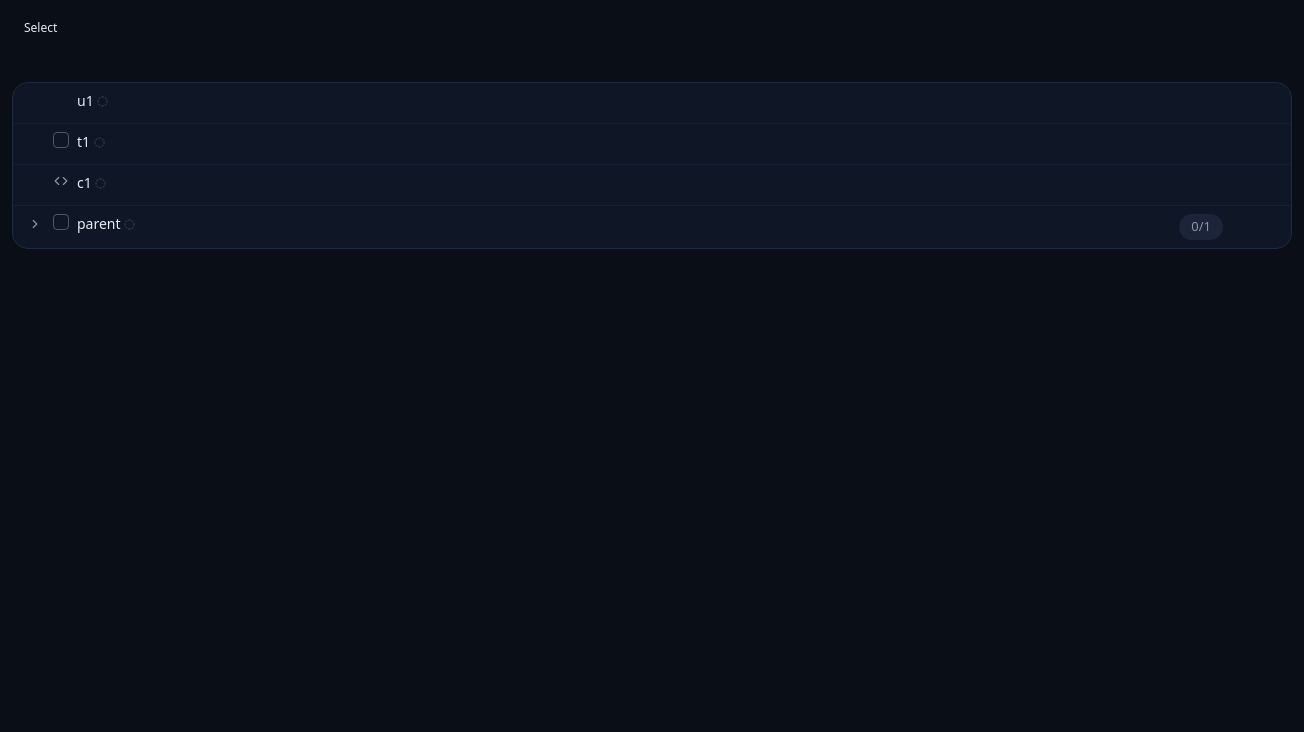
Test case: Inbox select mode › gates Classify by shape (childless roots) and Move by type (task/unclassified)
This screenshot has width=1304, height=732.
Click the button "Select" at (41, 28), box [12,12,69,44]
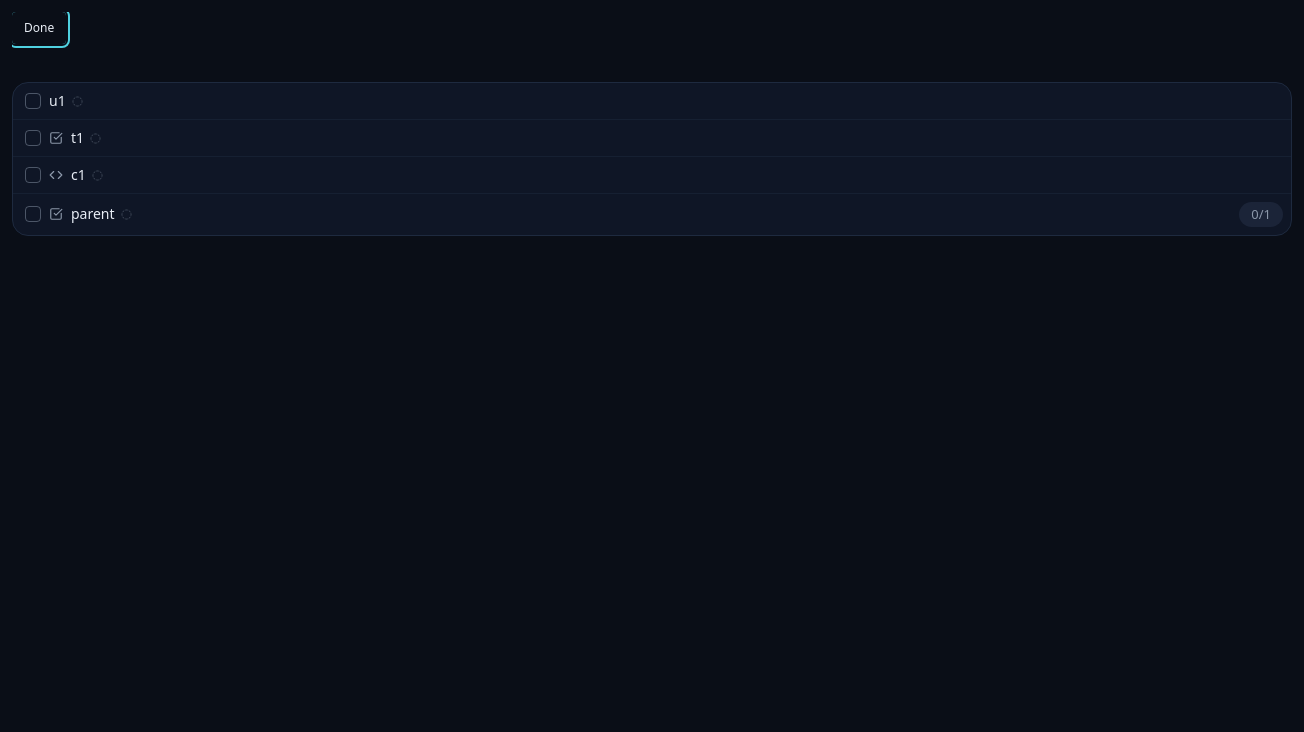
# A mixed unclassified + task selection: both actions live (all childless roots, all fileable).
Click the button named "select \"u1\"" at (33, 101), box [13,83,1291,119]
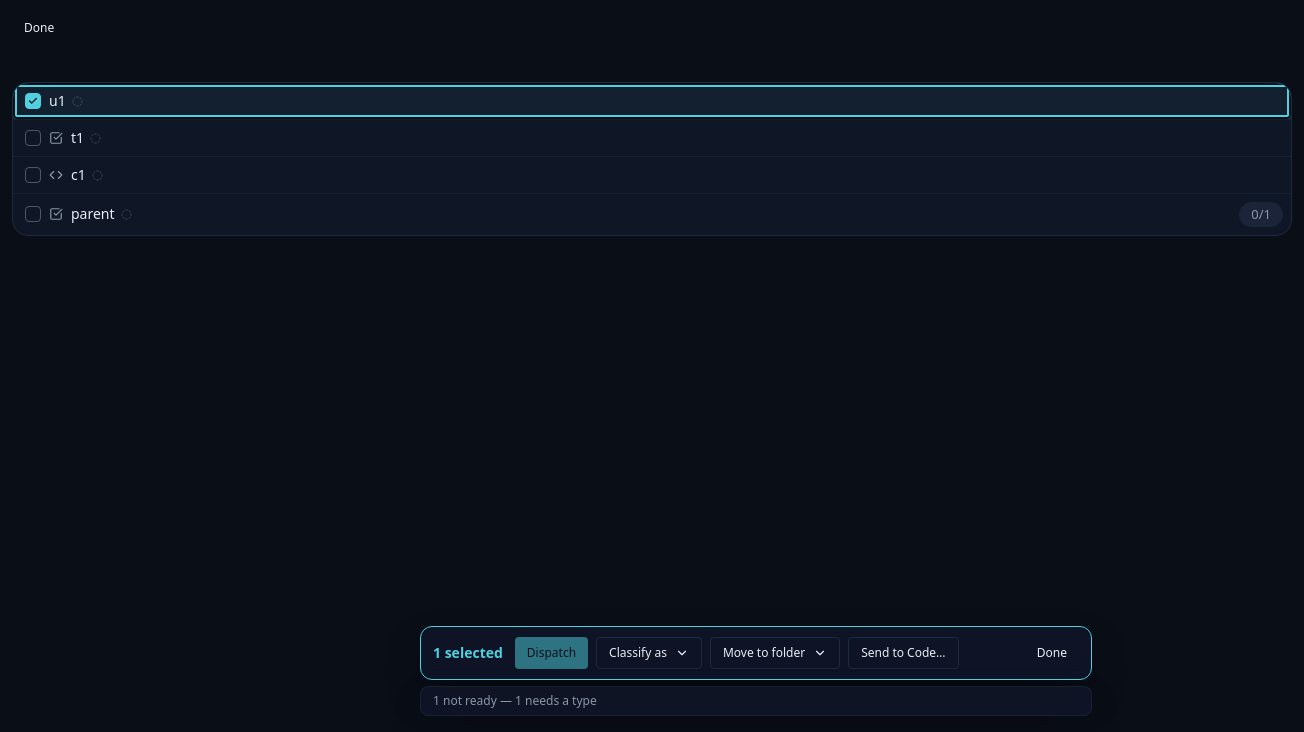
Click the button named "select \"t1\"" at (33, 138), box [13,120,1291,156]
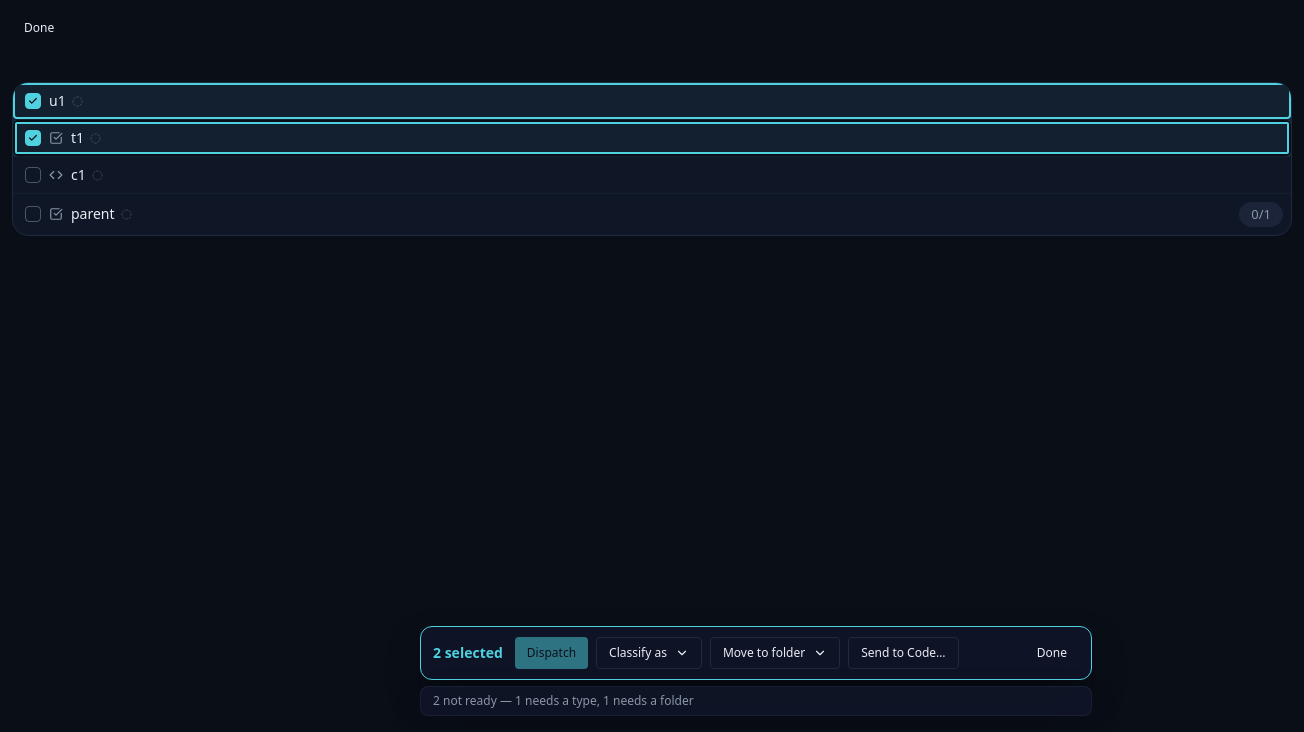
expect the button "Classify as" is enabled: met, box [596,637,702,669]
expect the button "Move to folder" is enabled: met, box [710,637,840,669]
Click the button named "select \"c1\"" at (33, 175), box [13,157,1291,193]
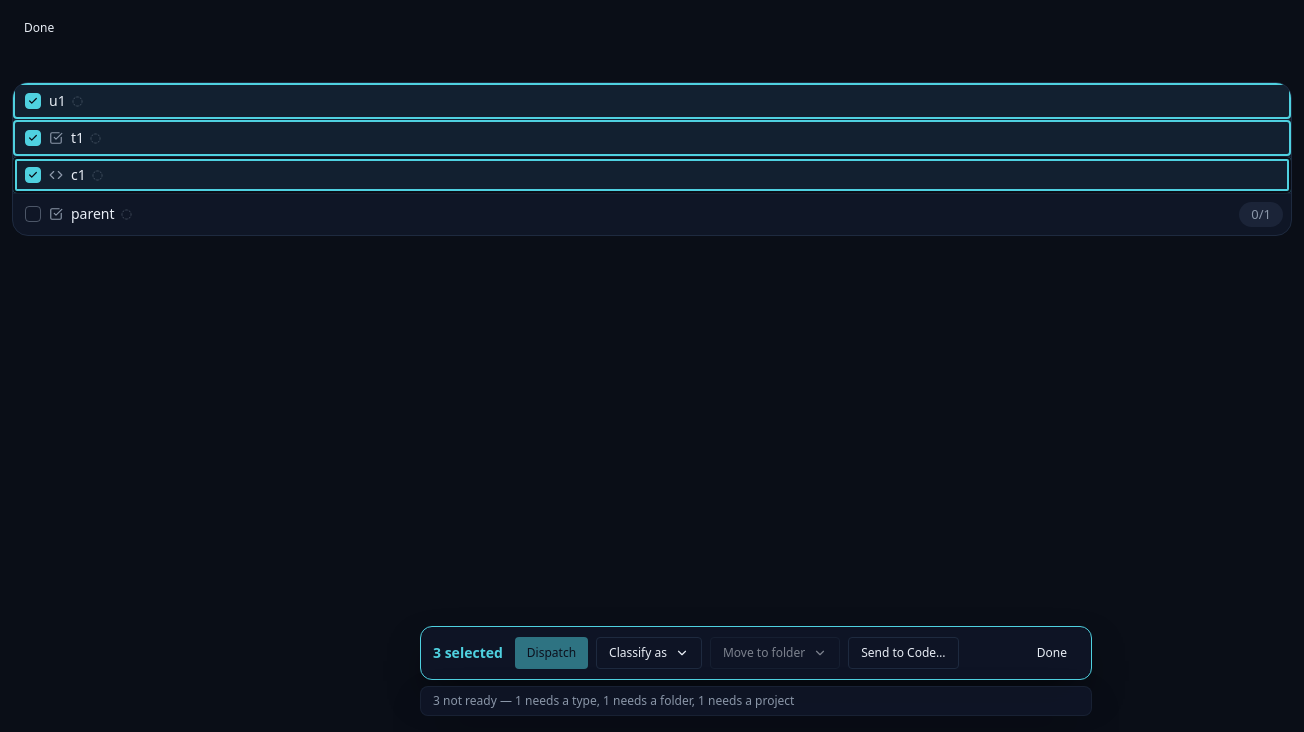
expect the button "Classify as" is enabled: met, box [596,637,702,669]
expect the button "Move to folder" is disabled: met, box [710,637,840,669]
Click the button named "deselect \"c1\"" at (33, 175), box [13,157,1291,193]
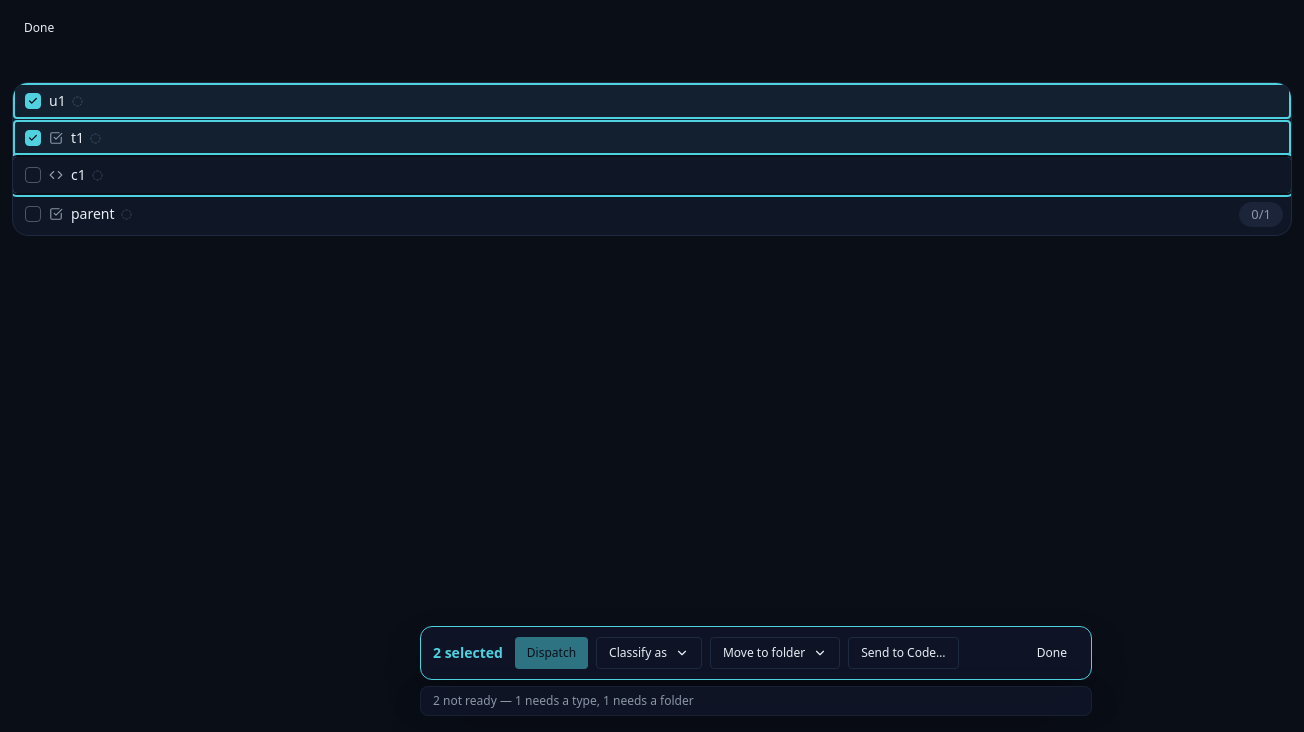
Click the button named "select \"parent\"" at (93, 214), box [13,194,1291,235]
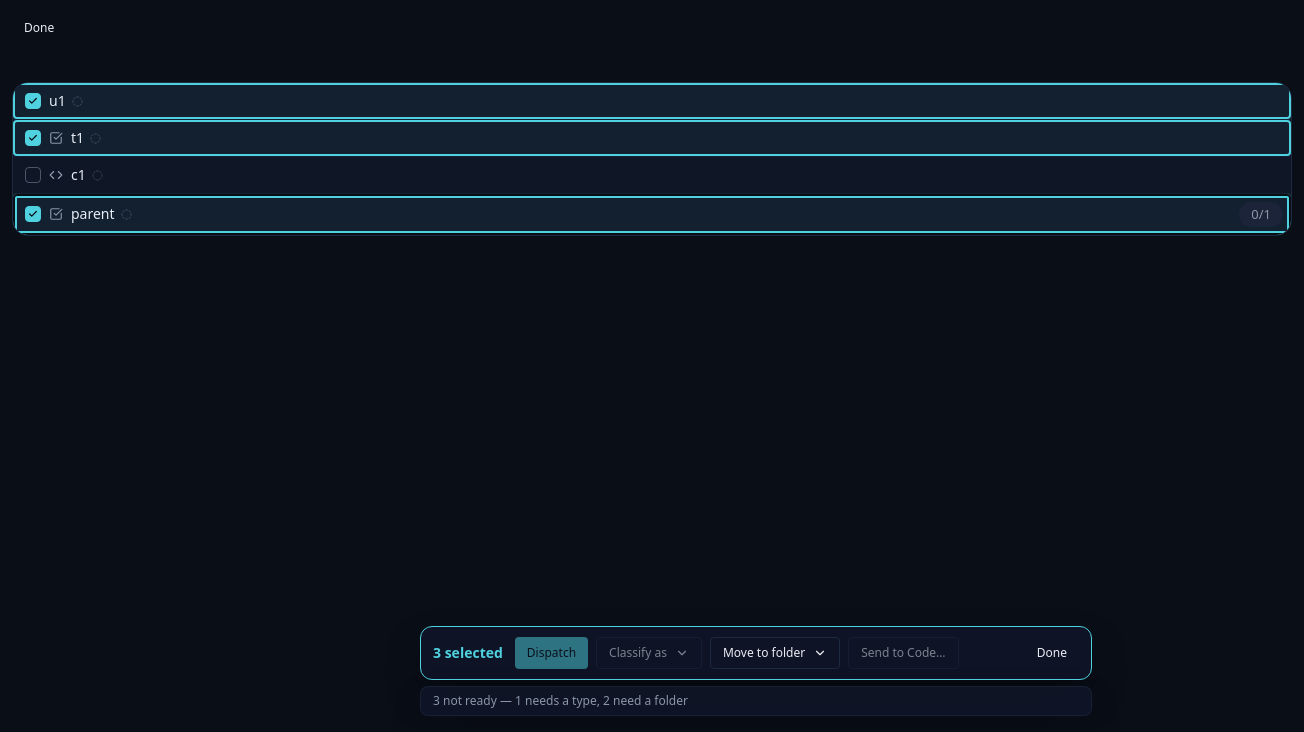
expect the button "Move to folder" is enabled: met, box [710,637,840,669]
expect the button "Classify as" is disabled: met, box [596,637,702,669]
